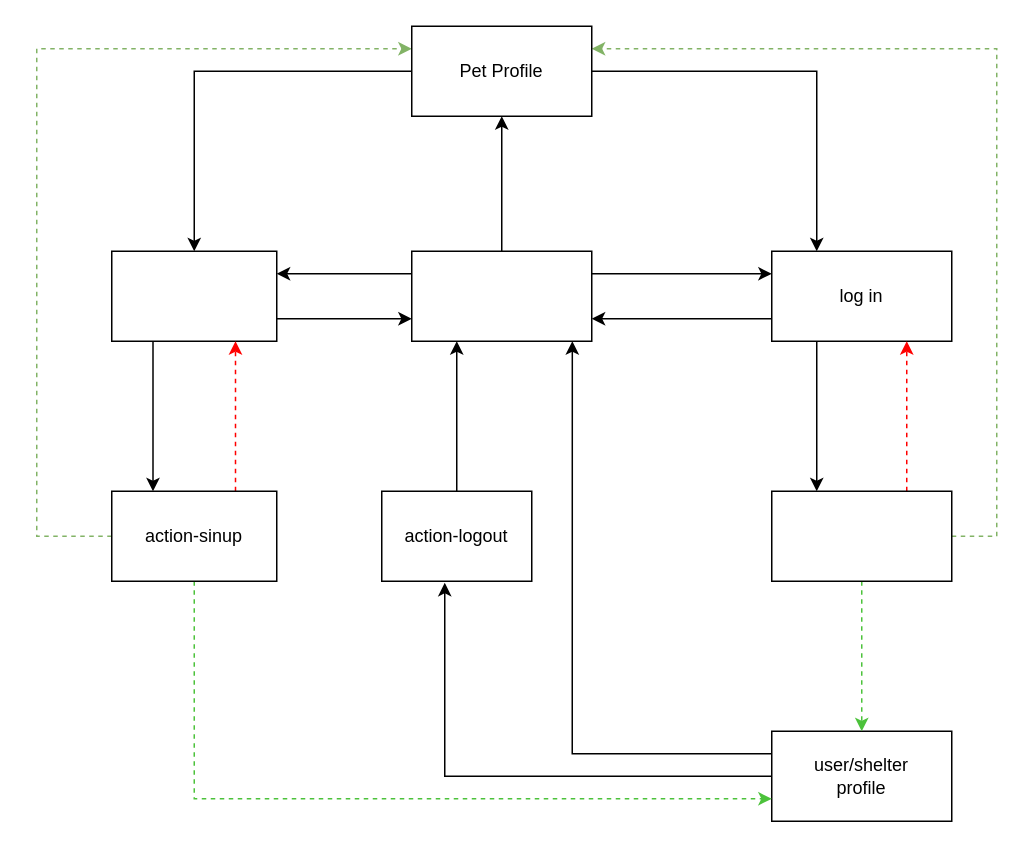
This 1035x848 diagram has some shape labels left out. Here are the shapes that lost their labels. From the top down, the box of each, then its label:
(110, 250, 277, 341): singup
(410, 250, 592, 341): index
(770, 490, 952, 581): action-login
